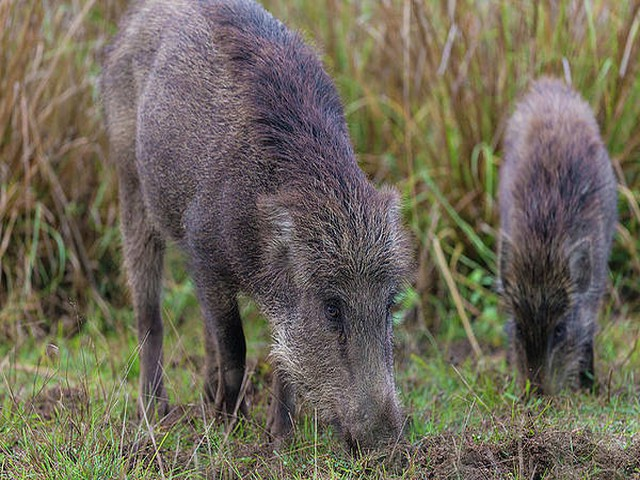Pig: (99, 4, 414, 443), (495, 73, 616, 392)
